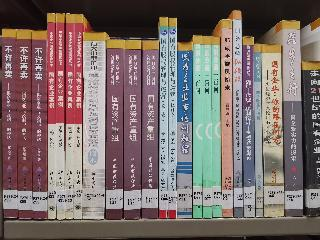book-spine: (280, 19, 305, 219), (261, 43, 284, 218), (85, 33, 105, 220), (0, 28, 19, 220), (105, 39, 125, 221), (174, 43, 194, 218), (123, 41, 141, 220), (142, 40, 159, 220), (17, 29, 32, 220), (188, 35, 203, 220), (241, 35, 256, 218), (33, 30, 47, 220), (303, 61, 320, 217), (73, 14, 84, 220), (201, 35, 213, 219), (223, 19, 234, 218), (46, 13, 56, 220), (234, 11, 244, 218), (168, 16, 178, 219), (159, 18, 169, 219), (253, 43, 264, 217), (56, 14, 65, 220), (65, 14, 74, 220), (211, 37, 221, 218)
